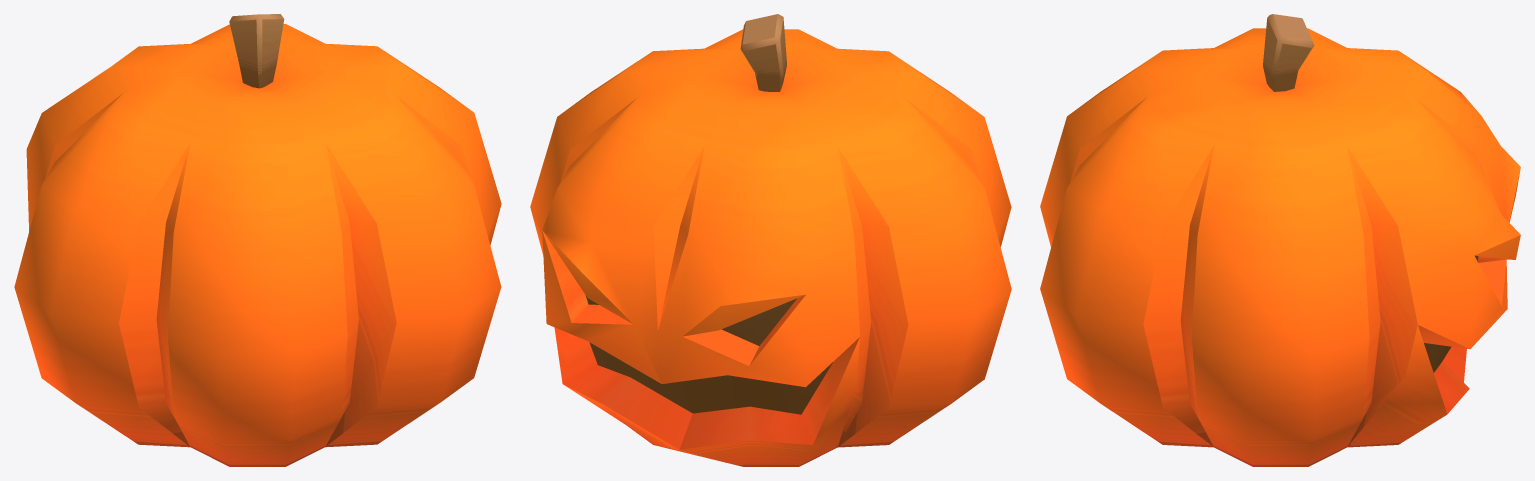
Rendered from pumpkin.glb.
3 views of the same model, side by side, from view 1: azimuth 30°, elevation 25°; view 2: azimuth 150°, elevation 25°; view 3: azimuth 270°, elevation 25° (orthographic).
Visible parts, largest first — view 1: pumpkin_body; view 2: pumpkin_body; view 3: pumpkin_body.
Part boxes in pixels (x1,y1,x2,y2): pumpkin_body: (14, 14, 501, 466); pumpkin_body: (530, 14, 1011, 466); pumpkin_body: (1040, 14, 1520, 466).
Bounding box in the file's own units: 1.04 × 0.9 × 0.9692.
1 material, 1 textured.
